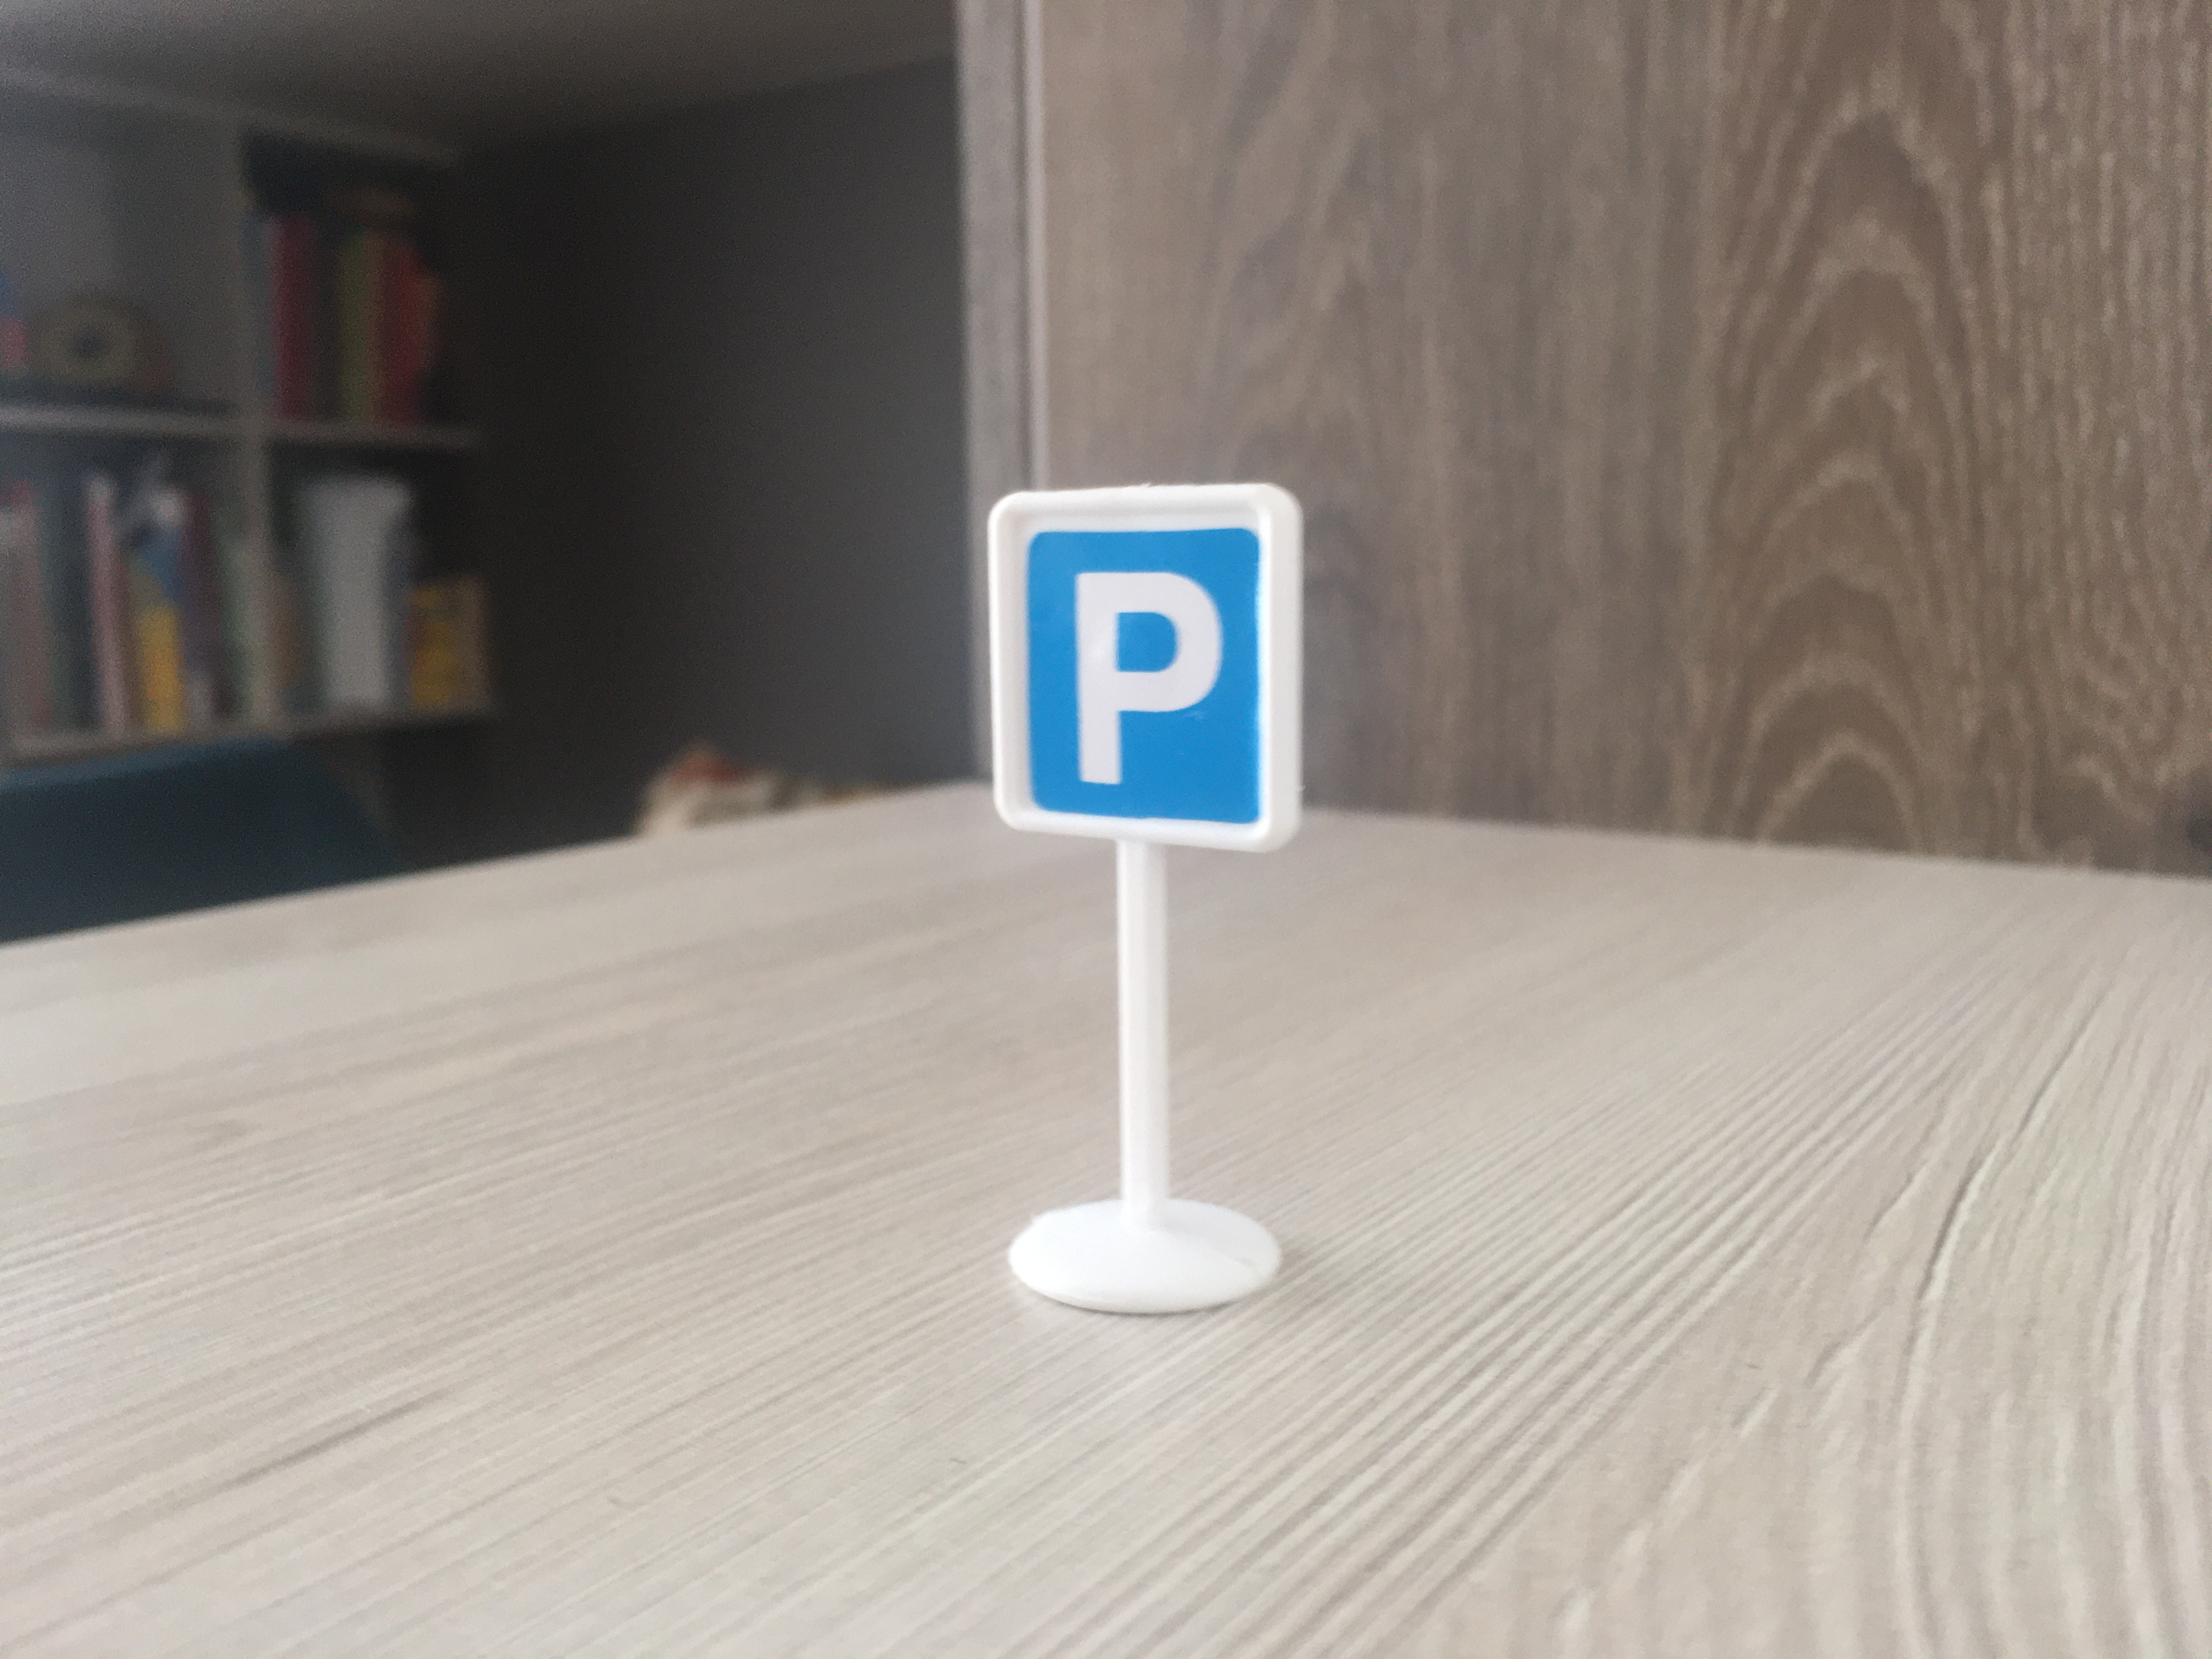parking: (981, 483, 1315, 856)
